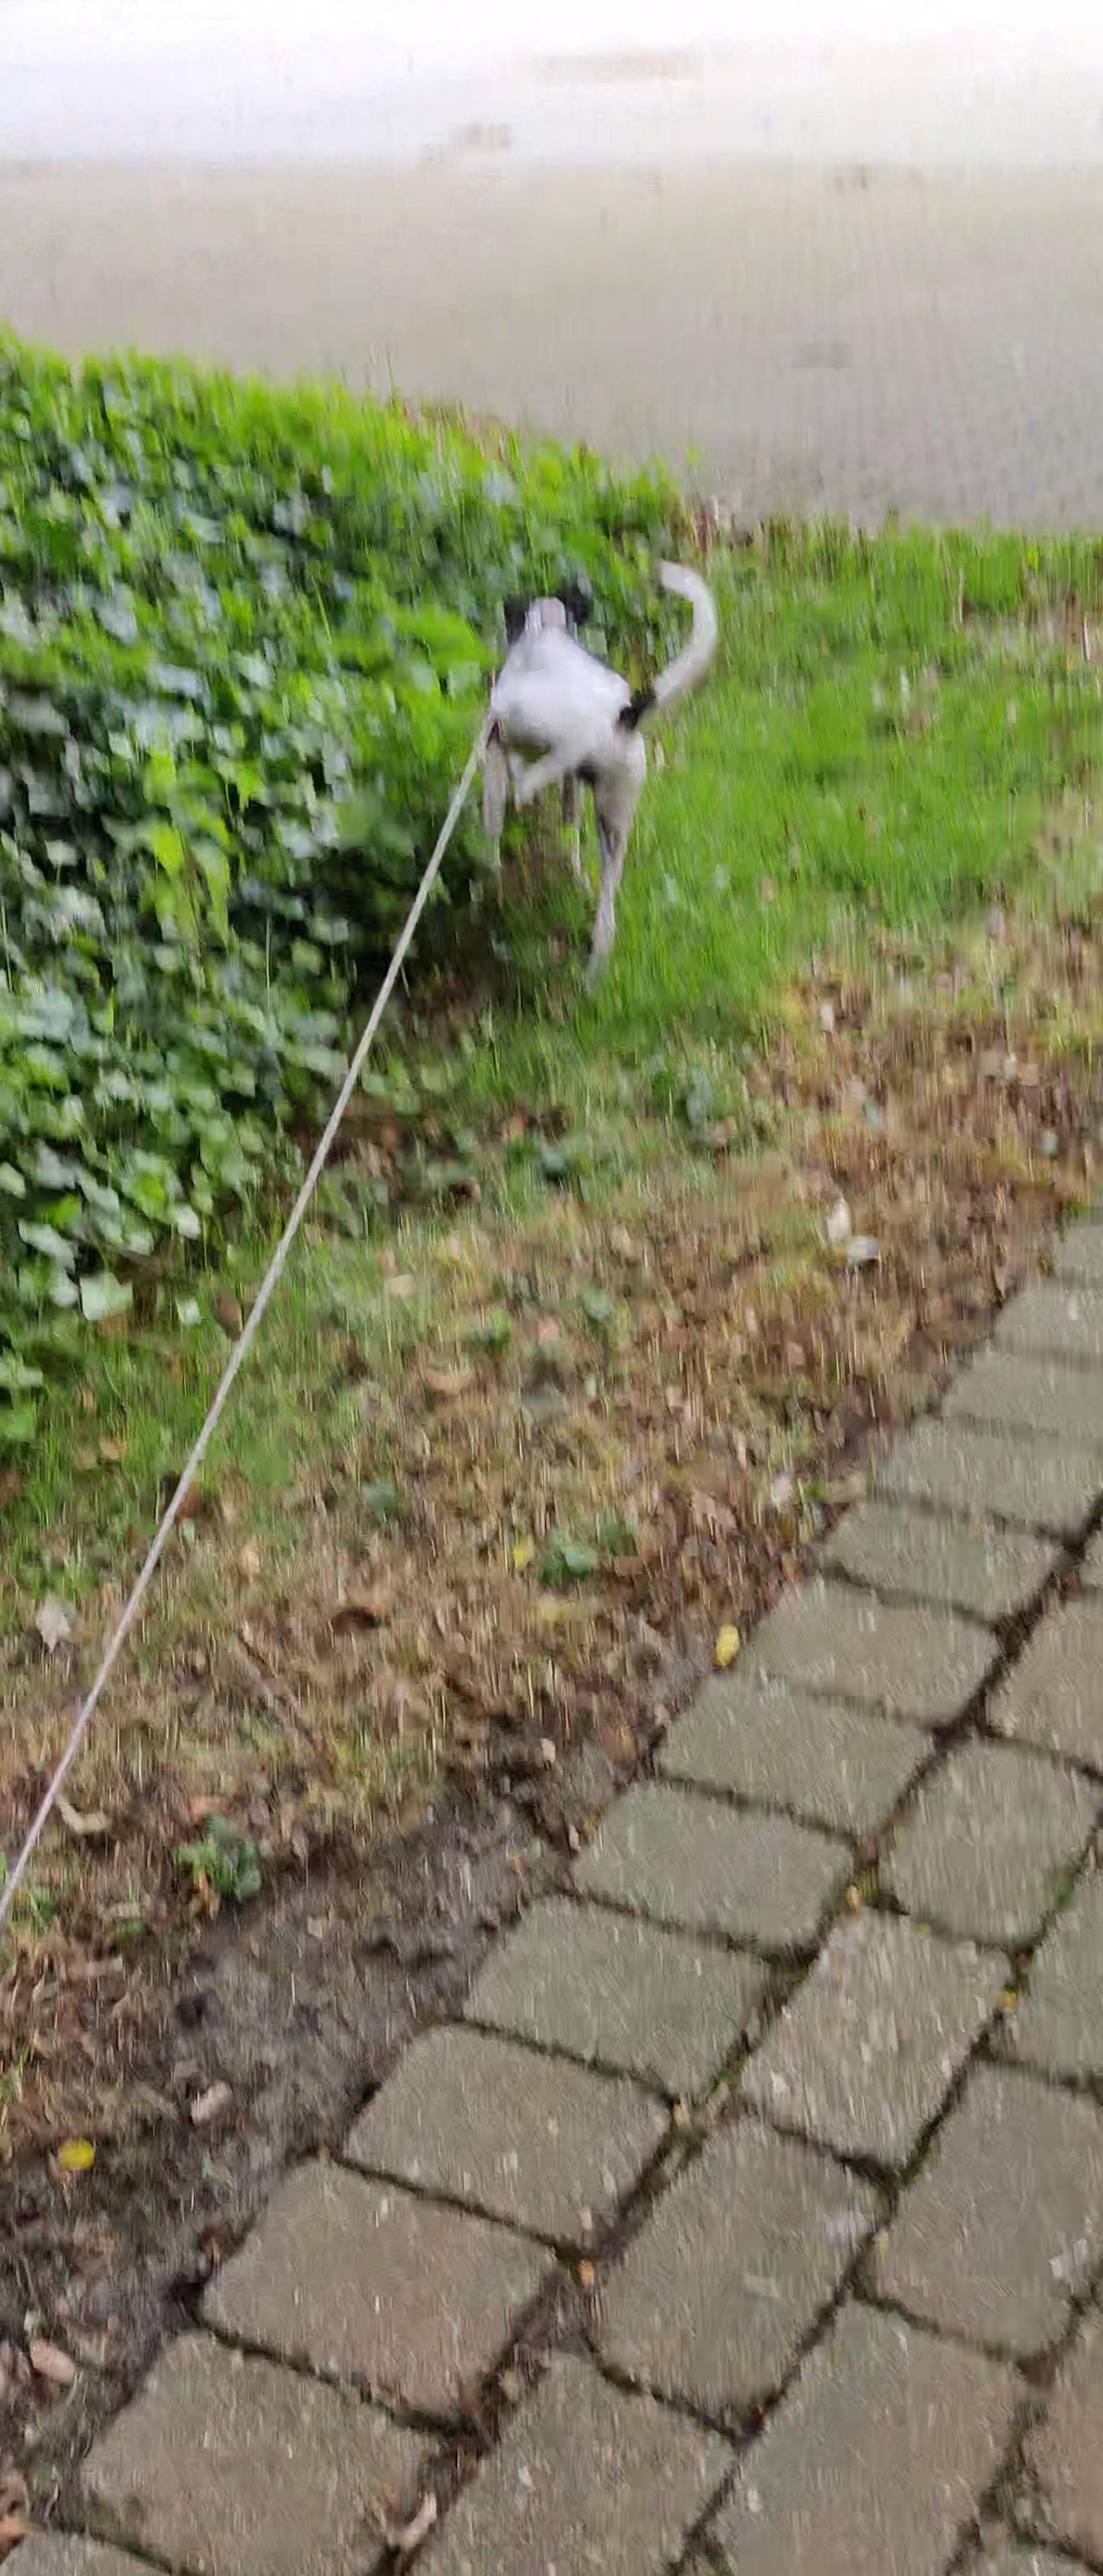Dog: (436, 542, 740, 981)
